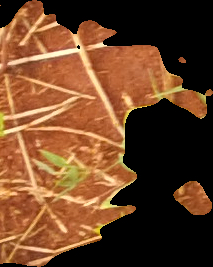soil: (1, 1, 212, 267)
